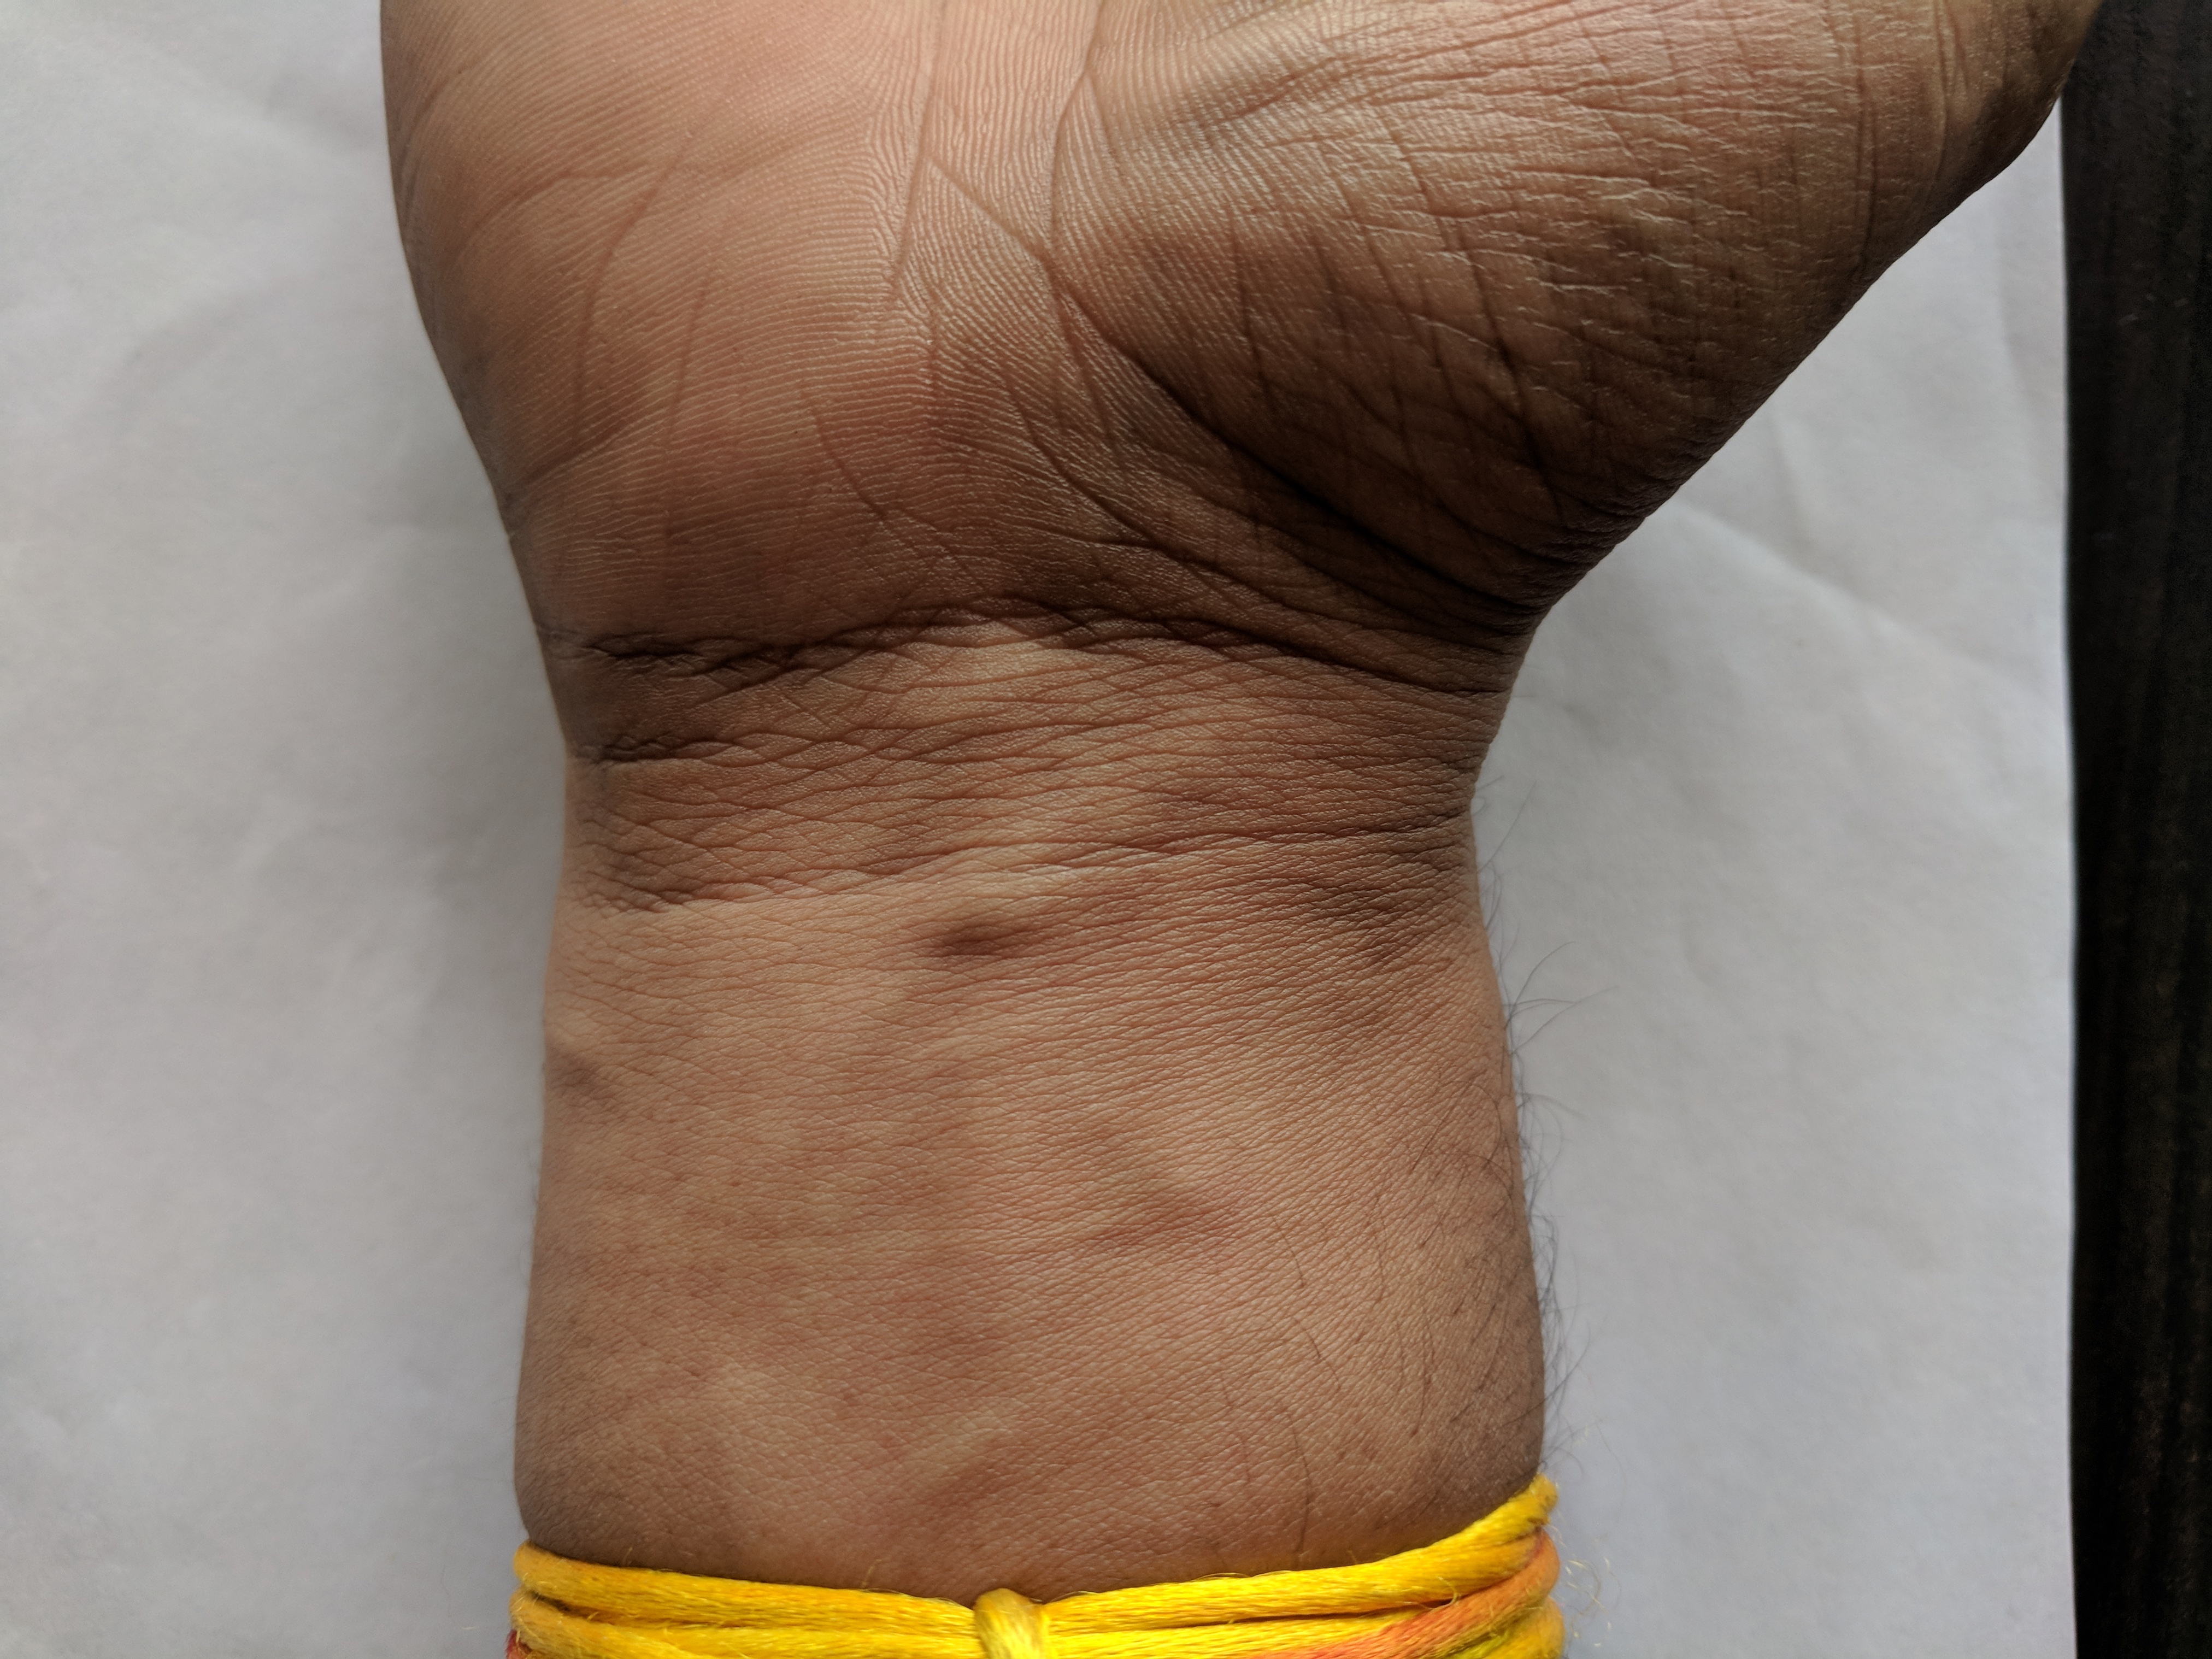righthandwrist: (524, 579, 1590, 1002)
